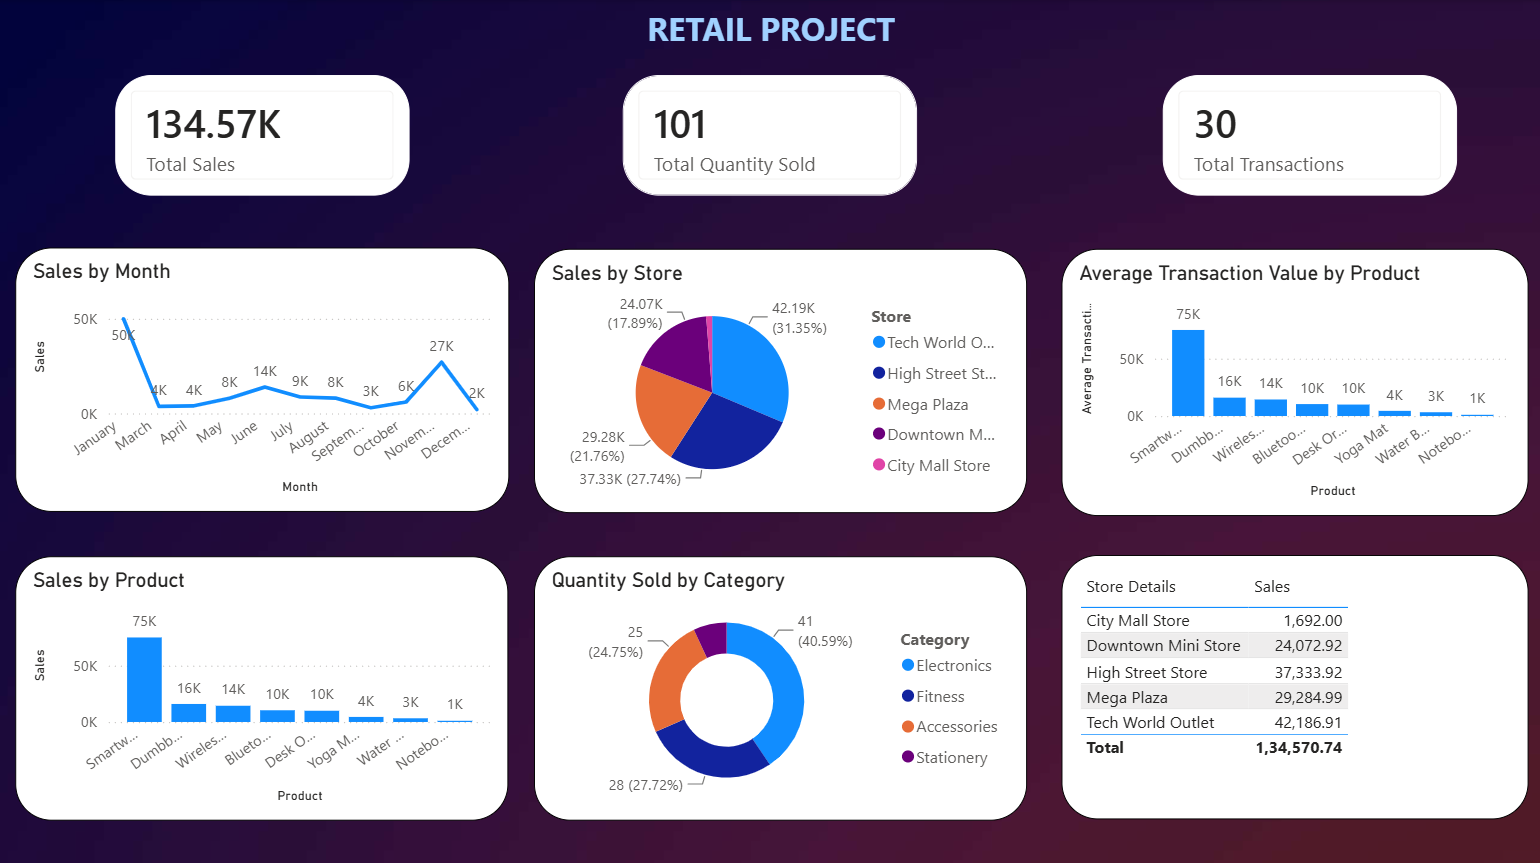

What the dashboard file says about the page in this screenshot:
{"tool":"powerbi","page":{"name":"Page 1","canvas":[1280,720],"ordinal":0},"visuals":[{"type":"textbox","box":[0,0,1280.2,61.6],"z":0},{"type":"cardVisual","fields":{"Data":["Sum(New_Notebook_2026_08_23_00_00_05.total_sales_amount)"]},"box":[96.1,61.7,244.2,100],"z":1000},{"type":"cardVisual","fields":{"Data":["Sum(New_Notebook_2026_08_23_00_00_05.total_quantity_sold)"]},"box":[517.3,61.7,244.2,100],"z":2000},{"type":"cardVisual","fields":{"Data":["Sum(New_Notebook_2026_08_23_00_00_05.number_of_transactions)"]},"box":[964.6,61.7,244.2,100],"z":3000},{"type":"lineChart","fields":{"Category":["New_Notebook_2026_08_23_00_00_05.transaction_date.Variation.Date Hierarchy.Month","New_Notebook_2026_08_23_00_00_05.transaction_date.Variation.Date Hierarchy.Day"],"Y":["Sum(New_Notebook_2026_08_23_00_00_05.total_sales_amount)"]},"box":[13.1,205.3,409.2,219.1],"z":4000},{"type":"pieChart","fields":{"Category":["New_Notebook_2026_08_23_00_00_05.store_name"],"Y":["Sum(New_Notebook_2026_08_23_00_00_05.total_sales_amount)"]},"box":[443.8,206.5,409,219],"z":5000},{"type":"columnChart","fields":{"Category":["New_Notebook_2026_08_23_00_00_05.product_name"],"Y":["Sum(New_Notebook_2026_08_23_00_00_05.total_sales_amount)"]},"box":[13.1,461.6,409,219],"z":6000},{"type":"donutChart","fields":{"Category":["New_Notebook_2026_08_23_00_00_05.category"],"Y":["Sum(New_Notebook_2026_08_23_00_00_05.total_quantity_sold)"]},"box":[443.8,461.6,409,219],"z":7000},{"type":"columnChart","fields":{"Category":["New_Notebook_2026_08_23_00_00_05.product_name"],"Y":["Sum(New_Notebook_2026_08_23_00_00_05.average_transaction_value)"]},"box":[880.4,206.5,387.2,221.3],"z":8000},{"type":"tableEx","fields":{"Values":["New_Notebook_2026_08_23_00_00_05.store_name","Sum(New_Notebook_2026_08_23_00_00_05.total_sales_amount)"]},"box":[880.4,460.4,387,219],"z":9000}]}

Visuals, with their boxes in screenshot pixels (x1, y1, x2, y2), scaled from the page's 1280x720 canvas onto the 1540x863 screenshot:
textbox: BBox(0, 0, 1539, 74)
cardVisual - Sum(New_Notebook_2026_08_23_00_00_05.total_sales_amount): BBox(116, 74, 409, 194)
cardVisual - Sum(New_Notebook_2026_08_23_00_00_05.total_quantity_sold): BBox(622, 74, 916, 194)
cardVisual - Sum(New_Notebook_2026_08_23_00_00_05.number_of_transactions): BBox(1161, 74, 1454, 194)
lineChart - New_Notebook_2026_08_23_00_00_05.transaction_date.Variation.Date Hierarchy.Month x New_Notebook_2026_08_23_00_00_05.transaction_date.Variation.Date Hierarchy.Day: BBox(16, 246, 508, 509)
pieChart - New_Notebook_2026_08_23_00_00_05.store_name x Sum(New_Notebook_2026_08_23_00_00_05.total_sales_amount): BBox(534, 248, 1026, 510)
columnChart - New_Notebook_2026_08_23_00_00_05.product_name x Sum(New_Notebook_2026_08_23_00_00_05.total_sales_amount): BBox(16, 553, 508, 816)
donutChart - New_Notebook_2026_08_23_00_00_05.category x Sum(New_Notebook_2026_08_23_00_00_05.total_quantity_sold): BBox(534, 553, 1026, 816)
columnChart - New_Notebook_2026_08_23_00_00_05.product_name x Sum(New_Notebook_2026_08_23_00_00_05.average_transaction_value): BBox(1059, 248, 1525, 513)
tableEx - New_Notebook_2026_08_23_00_00_05.store_name x Sum(New_Notebook_2026_08_23_00_00_05.total_sales_amount): BBox(1059, 552, 1525, 814)
